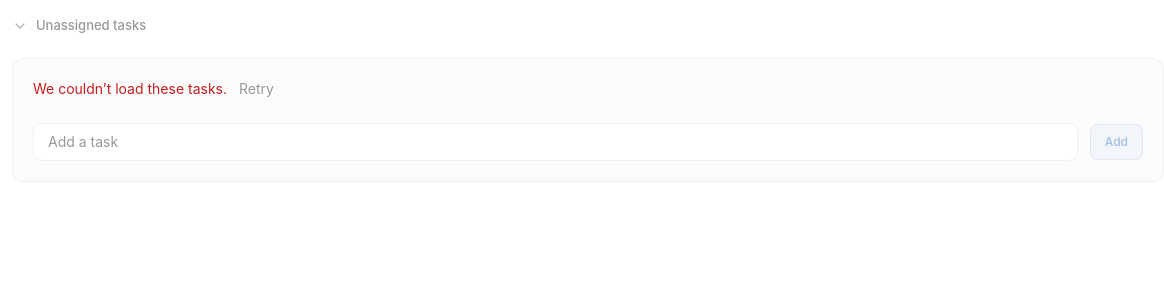
shows load failure with retry
Click the button "Retry".
click(256, 88)  # box [239,78,274,98]
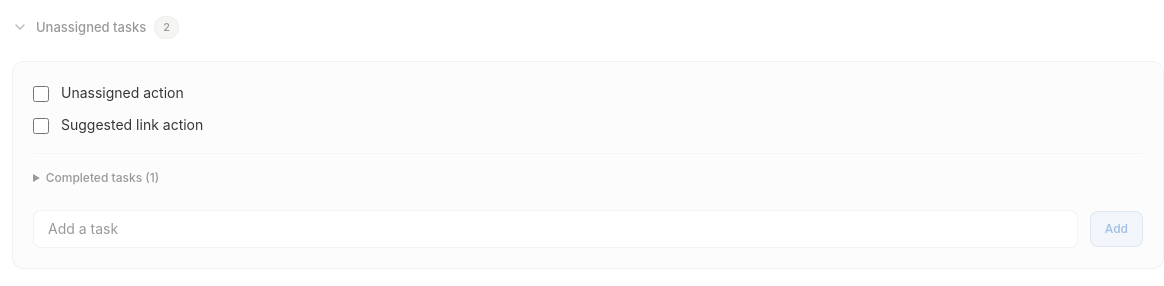
Now the text "Unassigned action" is shown, box [61,82,184,104]
